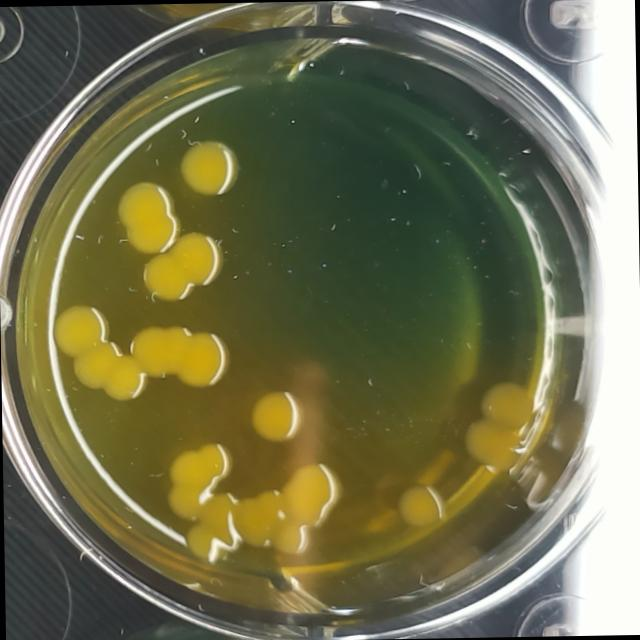vibrio: (46, 304, 144, 398), (122, 317, 236, 389), (226, 482, 308, 556), (136, 234, 225, 300), (170, 130, 247, 202), (107, 184, 180, 257), (158, 442, 230, 512), (243, 379, 309, 442), (282, 455, 339, 524), (180, 494, 244, 554), (455, 418, 522, 468), (473, 377, 541, 426), (390, 477, 451, 528)
